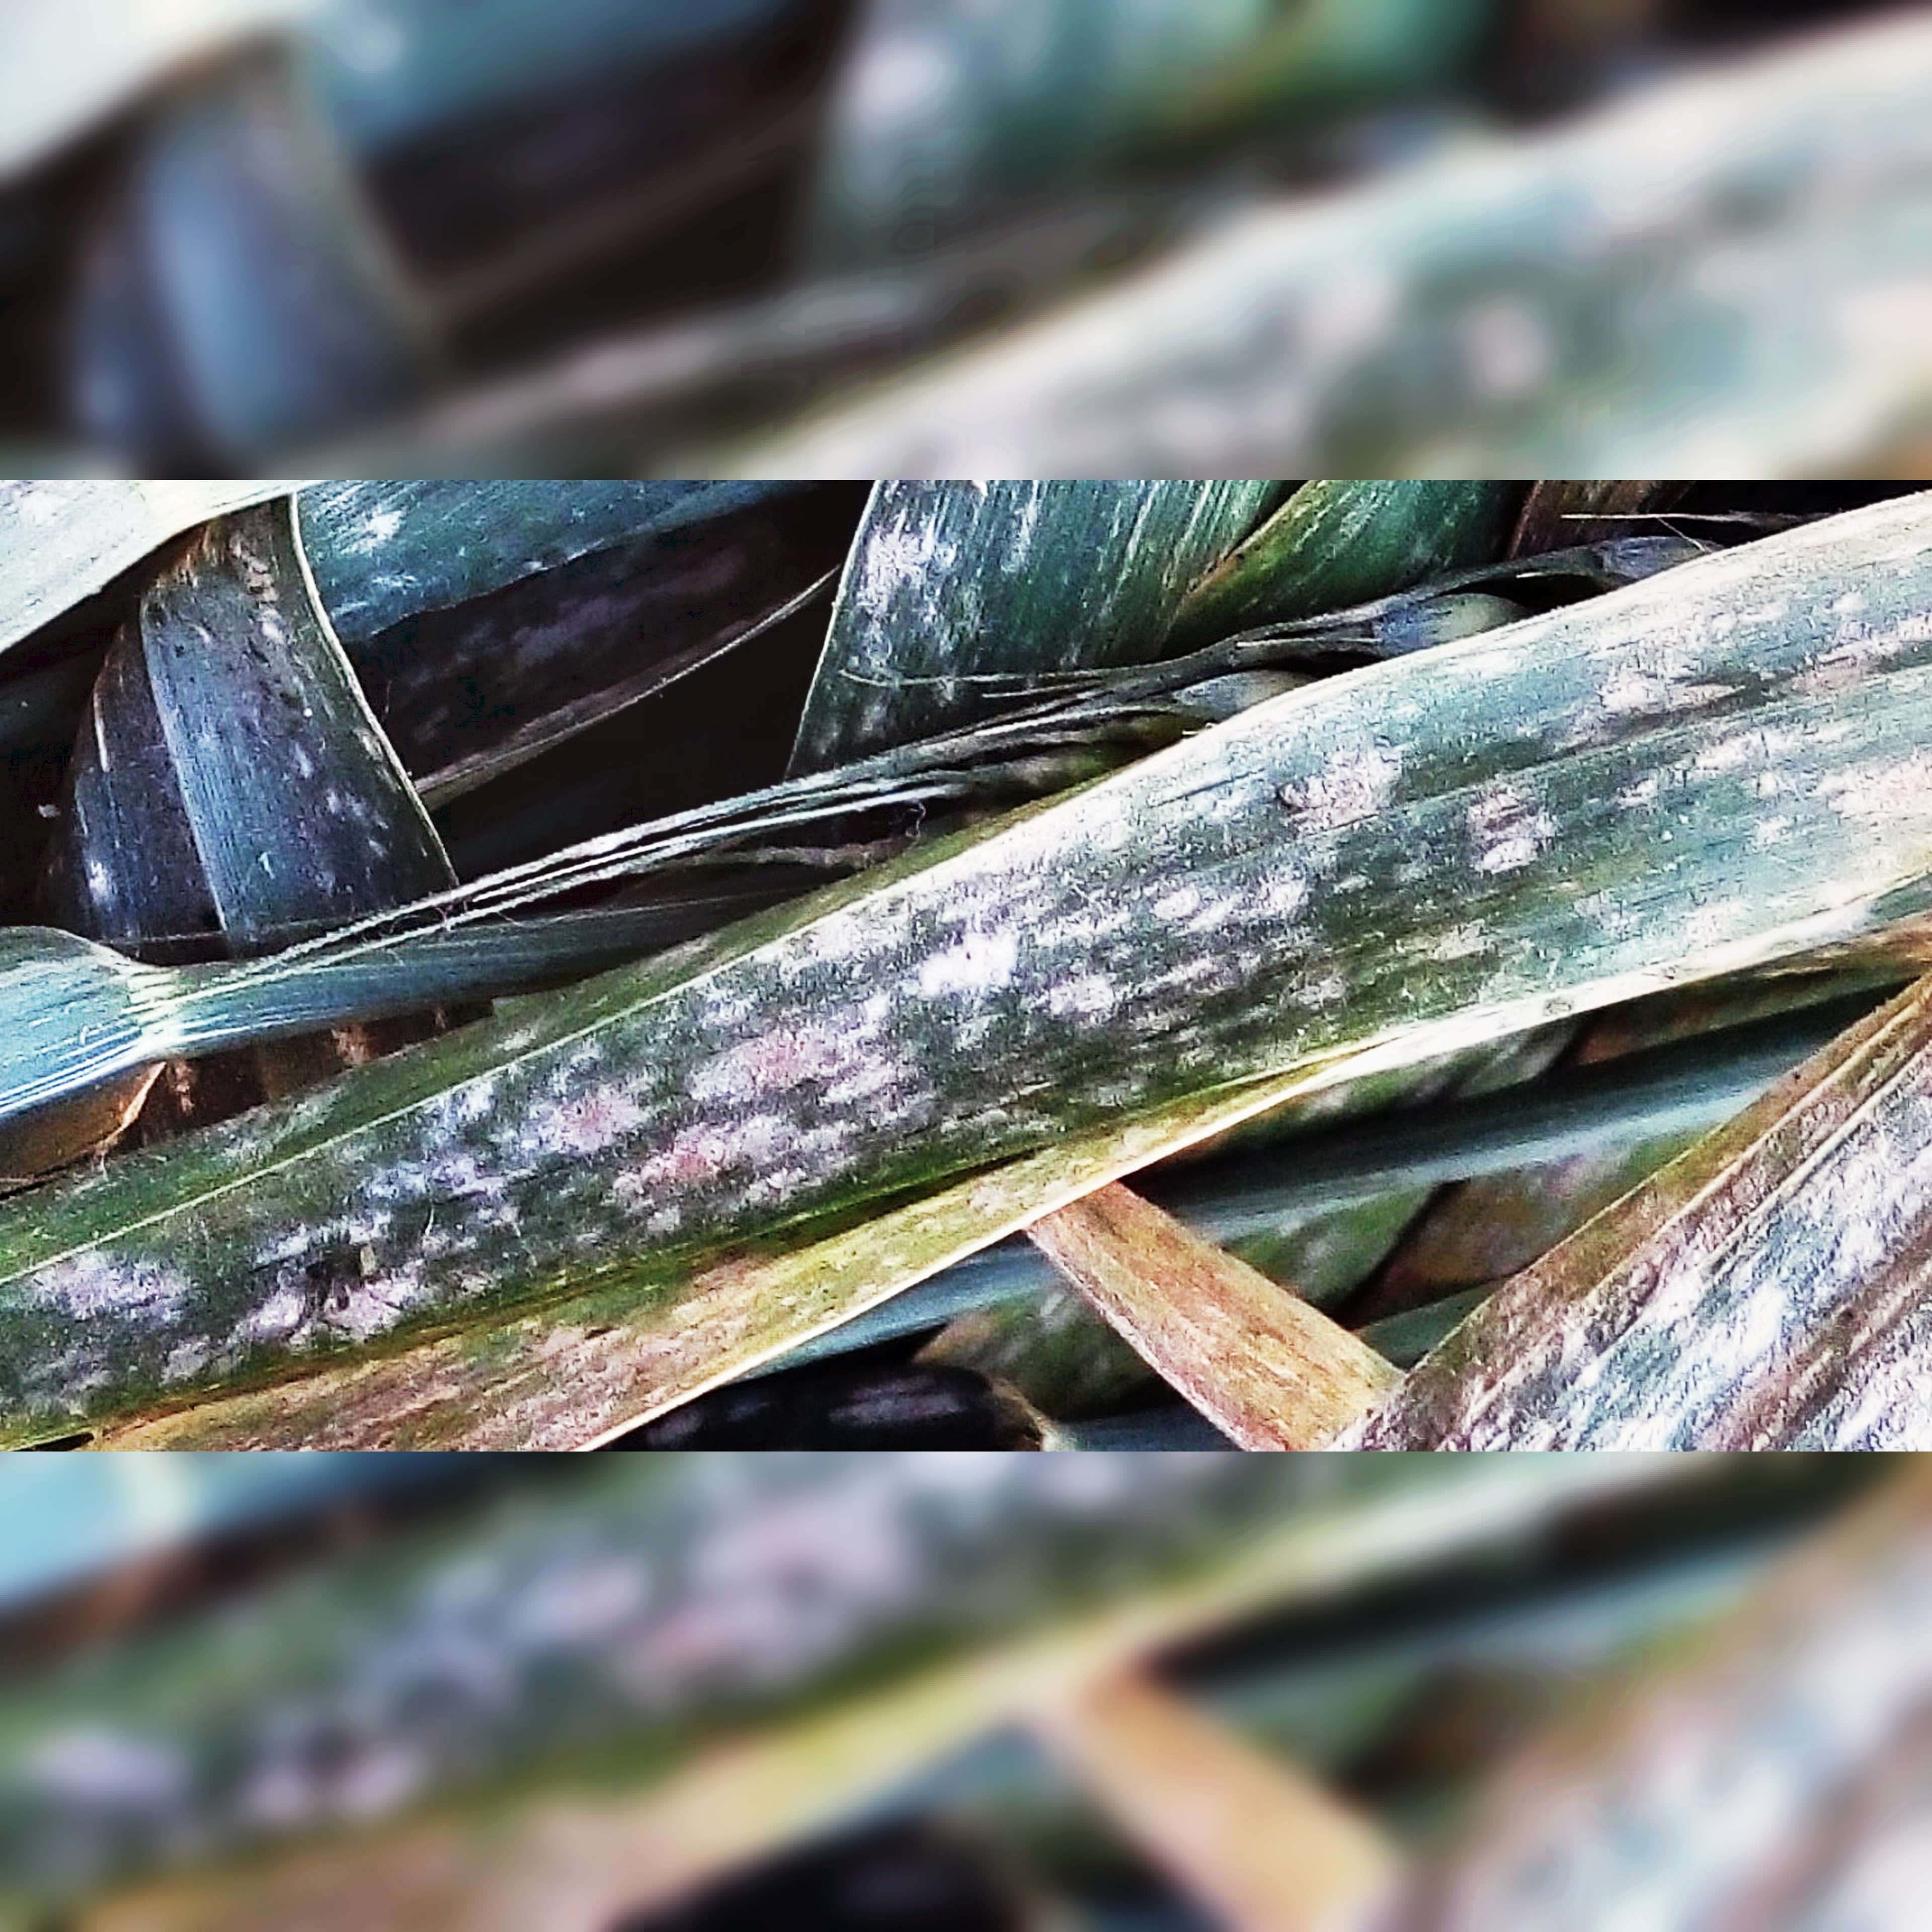Powdery Mildew: (327, 686, 1502, 1279)
